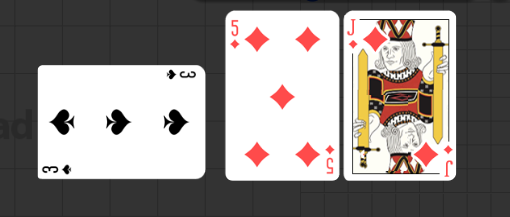3S: (41, 162, 75, 175)
5D: (324, 143, 336, 175)
9D: (443, 144, 455, 178)
